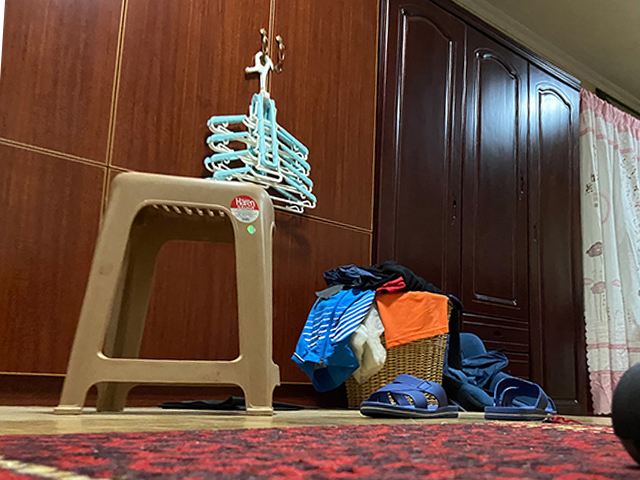cabinet: (1, 1, 379, 415), (377, 1, 565, 290)
carpet: (1, 417, 640, 480)
curtain: (577, 88, 640, 413)
slippers: (359, 373, 460, 418), (481, 377, 559, 422)
stool: (53, 172, 281, 416)
